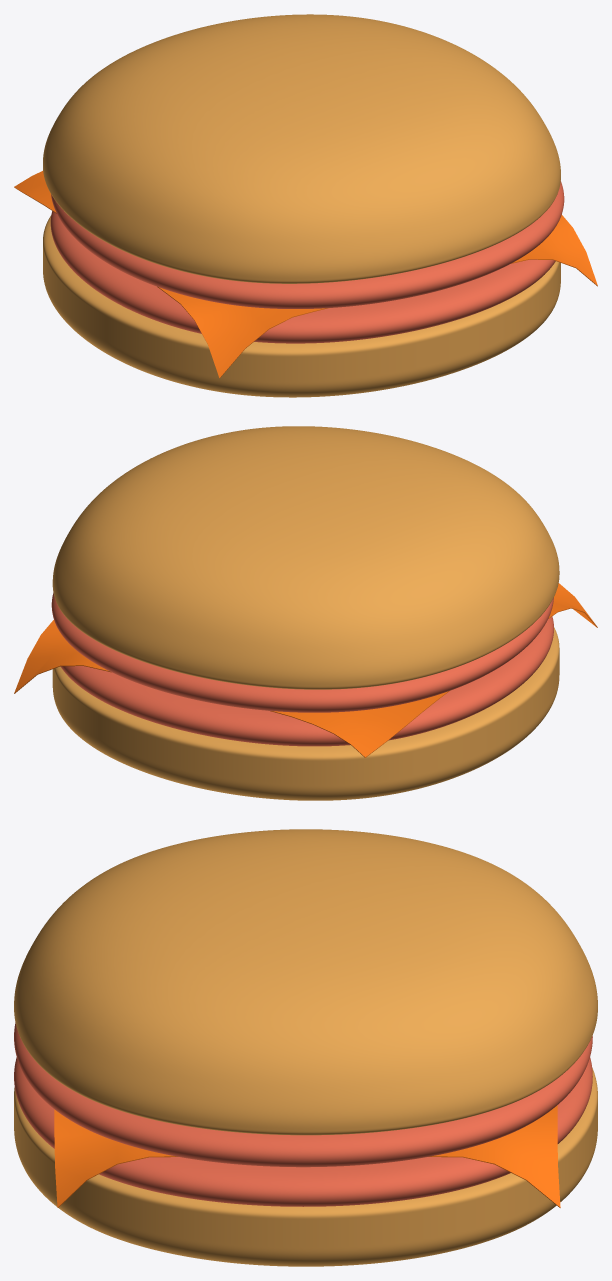
The model's file is hamburger.glb.
3 renders of one model, top to bottom at view 1: azimuth 30°, elevation 25°; view 2: azimuth 150°, elevation 25°; view 3: azimuth 270°, elevation 25°, orthographic. The views are drawn at different scales.
Visible parts, largest first — view 1: Cube.002, Cube, Cube.001, Cube.003, Plane; view 2: Cube.002, Cube, Cube.001, Cube.003, Plane; view 3: Cube.002, Cube, Cube.003, Cube.001, Plane.
Part boxes in pixels (box(x1,y1,x2,y2)): Cube.002: box(43, 14, 560, 283); Cube: box(43, 215, 560, 397); Cube.001: box(50, 211, 555, 343); Cube.003: box(51, 181, 564, 308); Plane: box(14, 171, 597, 378); Cube.002: box(52, 426, 559, 689); Cube: box(52, 627, 559, 800); Cube.001: box(60, 616, 553, 746); Cube.003: box(51, 593, 553, 712); Plane: box(14, 583, 597, 757); Cube.002: box(14, 829, 597, 1135); Cube: box(14, 1068, 597, 1266); Cube.003: box(14, 1022, 592, 1167); Cube.001: box(14, 1057, 592, 1206); Plane: box(54, 1105, 560, 1207).
Bounding box in the file's own units: 55.05 × 29 × 54.75.
